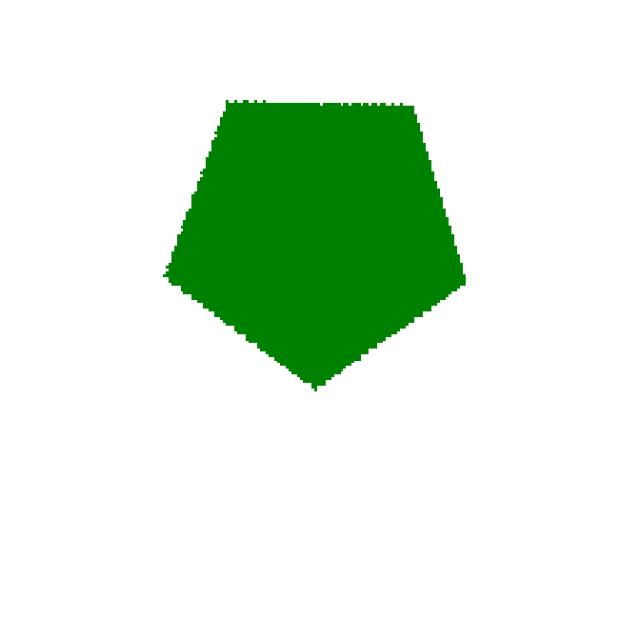Pentagon: (143, 77, 501, 396)
